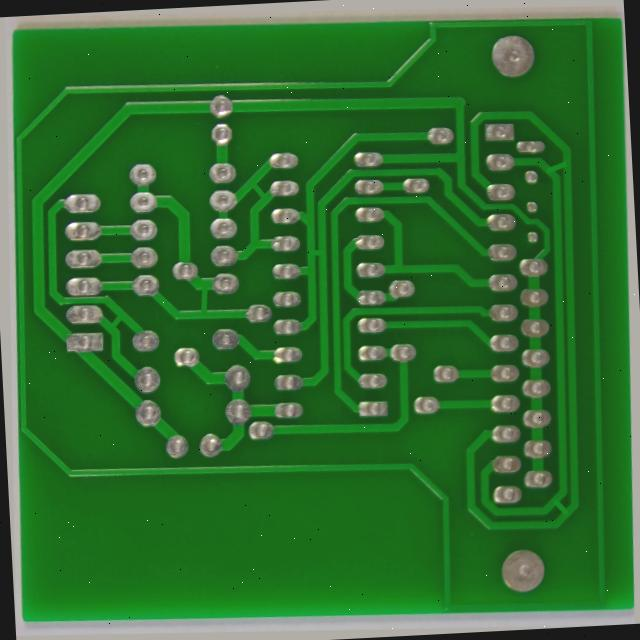short: (559, 486, 596, 524), (541, 137, 577, 173), (188, 278, 213, 327), (238, 169, 268, 201), (99, 312, 121, 344), (300, 236, 327, 260)
